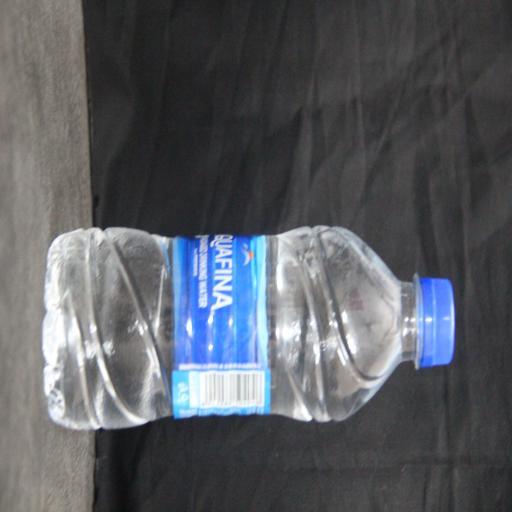Aquafina: (131, 58, 304, 512)
